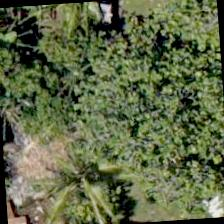Kelapa_Sawit: (30, 140, 127, 223)
